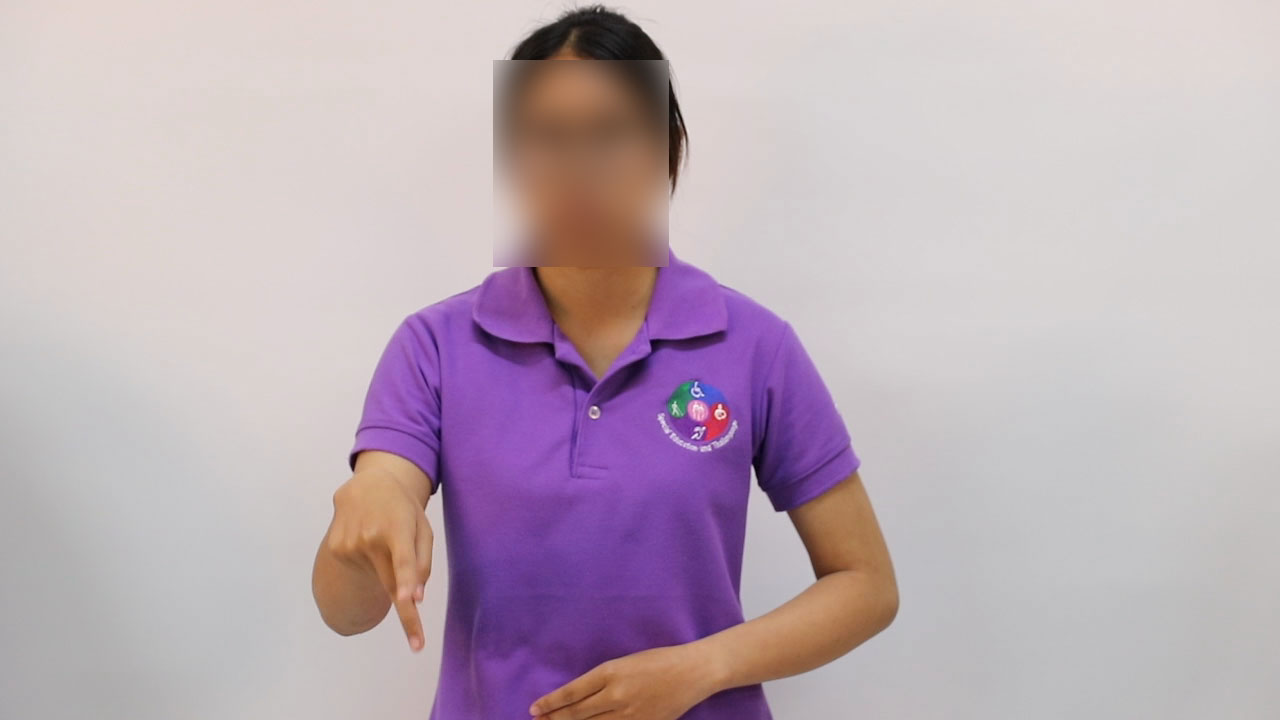por: (318, 463, 450, 658)
